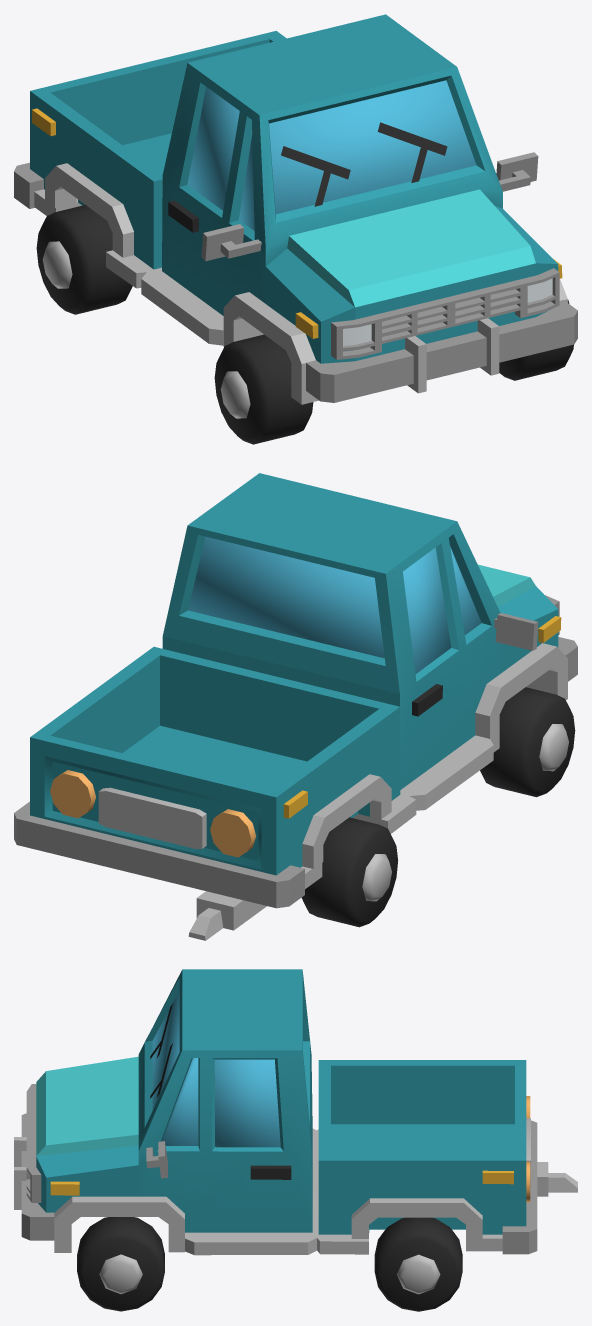
The model's file is PlayerCar_01_Pickup.fbx.
3 views of the same model, one above another, from view 1: azimuth 30°, elevation 25°; view 2: azimuth 150°, elevation 25°; view 3: azimuth 270°, elevation 25° (orthographic). The views are drawn at different scales.
Parts seen in each view (by area): view 1: Cabine, Windows, BackPart, Wheels, Side_Part_1, Bumpers, Radiator, Mirrors, Cleaners, Radiator_1, Light_Side, Handles; view 2: BackPart, Cabine, Windows, Wheels, Side_Part_1, Bumpers, Sign_Back, Light_Back, Exhaust, Mirrors, Light_Side; view 3: Cabine, BackPart, Wheels, Side_Part_1, Windows, Bumpers, Radiator, Exhaust, Light_Side, Handles, Mirrors.
Boxes of the visible parts, x1=… form: Cabine: x1=162, y1=14, x2=558, y2=363; Windows: x1=187, y1=80, x2=476, y2=230; BackPart: x1=30, y1=31, x2=286, y2=269; Wheels: x1=36, y1=205, x2=573, y2=444; Side_Part_1: x1=34, y1=163, x2=567, y2=404; Bumpers: x1=14, y1=162, x2=577, y2=402; Radiator: x1=331, y1=268, x2=559, y2=359; Mirrors: x1=201, y1=152, x2=538, y2=261; Cleaners: x1=281, y1=122, x2=447, y2=206; Radiator_1: x1=343, y1=278, x2=552, y2=345; Light_Side: x1=32, y1=108, x2=562, y2=338; Handles: x1=168, y1=200, x2=198, y2=232; BackPart: x1=30, y1=646, x2=400, y2=875; Cabine: x1=162, y1=473, x2=558, y2=789; Windows: x1=188, y1=536, x2=481, y2=673; Wheels: x1=301, y1=687, x2=575, y2=927; Side_Part_1: x1=301, y1=643, x2=567, y2=888; Bumpers: x1=14, y1=637, x2=577, y2=908; Sign_Back: x1=98, y1=787, x2=206, y2=848; Light_Back: x1=50, y1=770, x2=256, y2=857; Exhaust: x1=188, y1=891, x2=266, y2=940; Mirrors: x1=494, y1=613, x2=538, y2=650; Light_Side: x1=283, y1=616, x2=561, y2=818; Cabine: x1=36, y1=969, x2=312, y2=1232; BackPart: x1=318, y1=1060, x2=526, y2=1234; Wheels: x1=77, y1=1217, x2=462, y2=1311; Side_Part_1: x1=14, y1=1128, x2=502, y2=1255; Windows: x1=152, y1=991, x2=280, y2=1147; Bumpers: x1=21, y1=1113, x2=537, y2=1254; Radiator: x1=26, y1=1084, x2=41, y2=1202; Exhaust: x1=537, y1=1162, x2=577, y2=1196; Light_Side: x1=50, y1=1170, x2=513, y2=1195; Handles: x1=250, y1=1165, x2=291, y2=1179; Mirrors: x1=146, y1=1038, x2=167, y2=1178.
Bounding box in the file's own units: 236 × 195 × 416.
